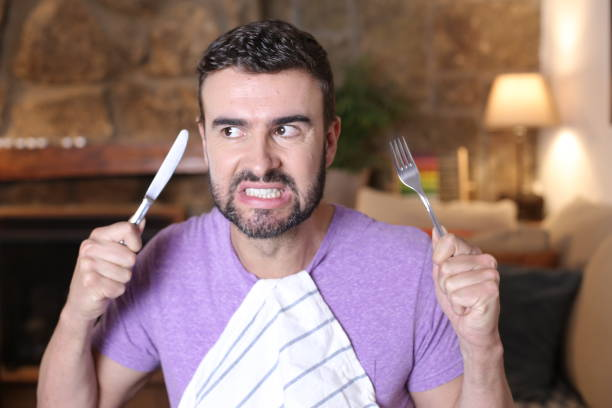knife: (120, 128, 192, 246)
